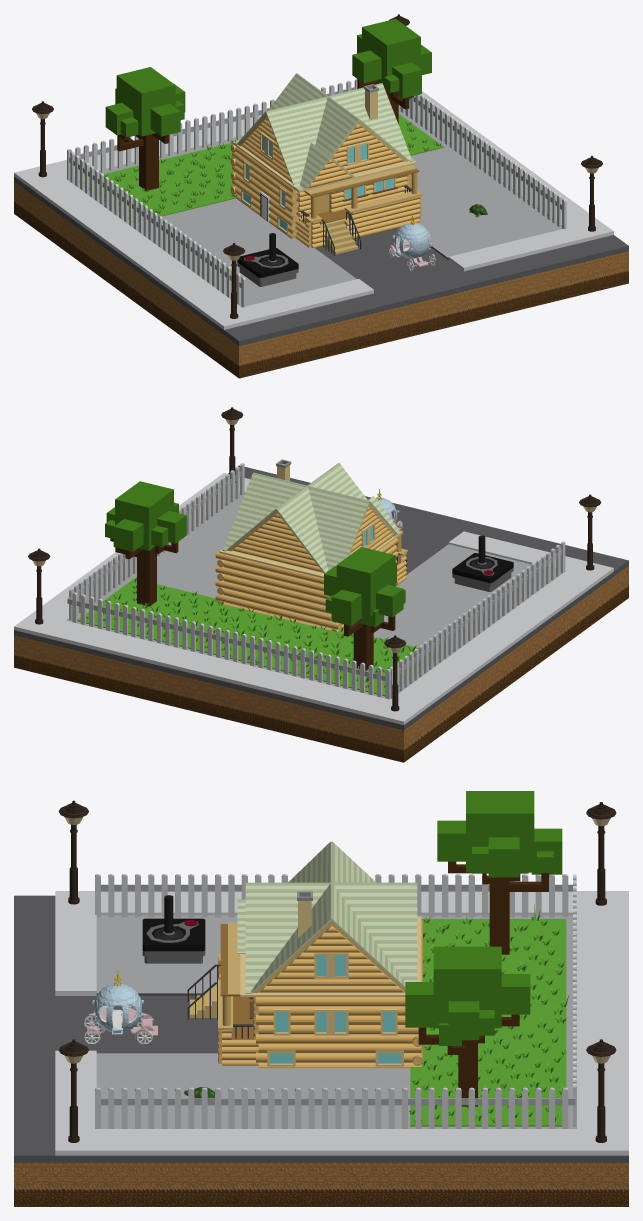
3 renders of one model, top to bottom at view 1: azimuth 30°, elevation 25°; view 2: azimuth 150°, elevation 25°; view 3: azimuth 270°, elevation 25°, orthographic. The views are drawn at different scales.
Visible parts, largest first — view 1: Cube.004, Cube.1516, OBJRANDOM_JOYSTICK, VEHICLES_FANTASY_CARRIAGE; view 2: Cube.004, Cube.1516, OBJRANDOM_JOYSTICK; view 3: Cube.004, Cube.1516, OBJRANDOM_JOYSTICK, VEHICLES_FANTASY_CARRIAGE.
Boxes of the visible parts, x1=… form: Cube.004: x1=14, y1=14, x2=628, y2=378; Cube.1516: x1=230, y1=73, x2=422, y2=255; OBJRANDOM_JOYSTICK: x1=237, y1=233, x2=298, y2=286; VEHICLES_FANTASY_CARRIAGE: x1=389, y1=214, x2=435, y2=271; Cube.004: x1=14, y1=407, x2=628, y2=762; Cube.1516: x1=215, y1=459, x2=407, y2=632; OBJRANDOM_JOYSTICK: x1=452, y1=535, x2=513, y2=591; Cube.004: x1=14, y1=791, x2=628, y2=1206; Cube.1516: x1=187, y1=841, x2=422, y2=1068; OBJRANDOM_JOYSTICK: x1=142, y1=895, x2=205, y2=963; VEHICLES_FANTASY_CARRIAGE: x1=84, y1=970, x2=157, y2=1043.
Size of the model in its own units: 4000 by 1599 by 4000.
Materials: 40 (4 with a texture image).
